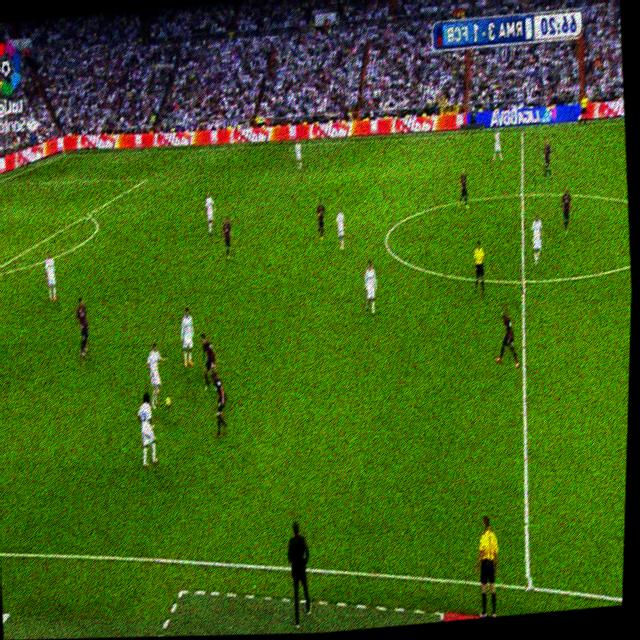halfcircle_bottom: (515, 267, 529, 294)
halfcircle_top: (517, 185, 526, 201)
midline_bottom_intersection: (520, 576, 534, 596)
midline_top_intersection: (517, 125, 524, 136)
top_arc_area_intersection: (81, 205, 91, 222)
